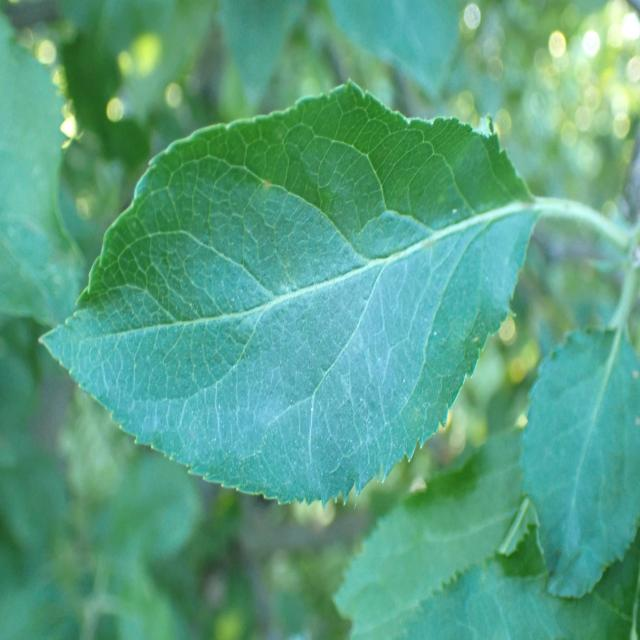scab: (278, 194, 514, 300)
